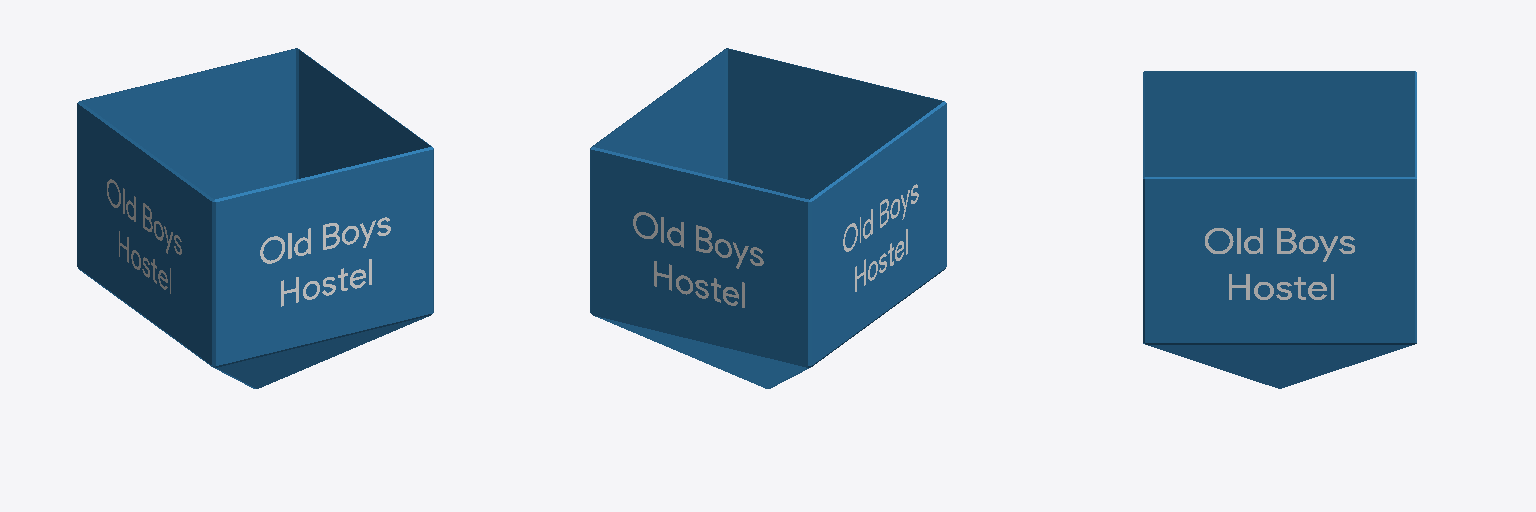
Rendered from oldboyshostel.obj.
3 views of the same model, side by side, from view 1: azimuth 30°, elevation 25°; view 2: azimuth 150°, elevation 25°; view 3: azimuth 270°, elevation 25° (orthographic).
Size of the model in its own units: 2.25 by 2.54 by 2.42.